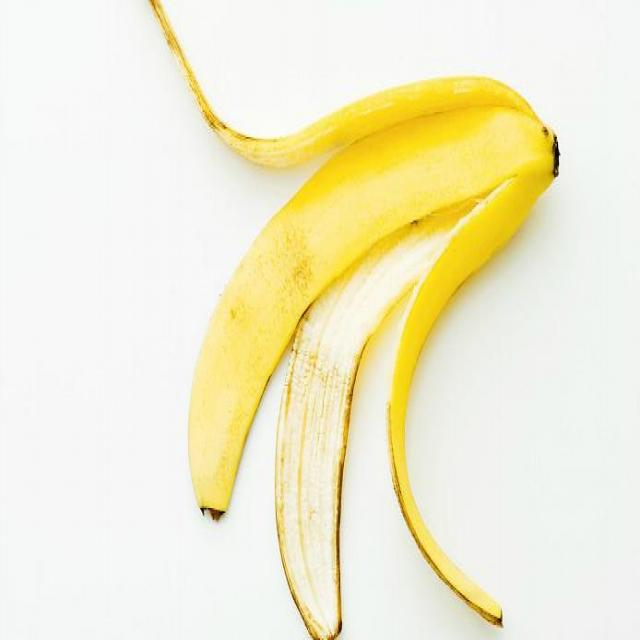banana: (146, 4, 588, 640)
